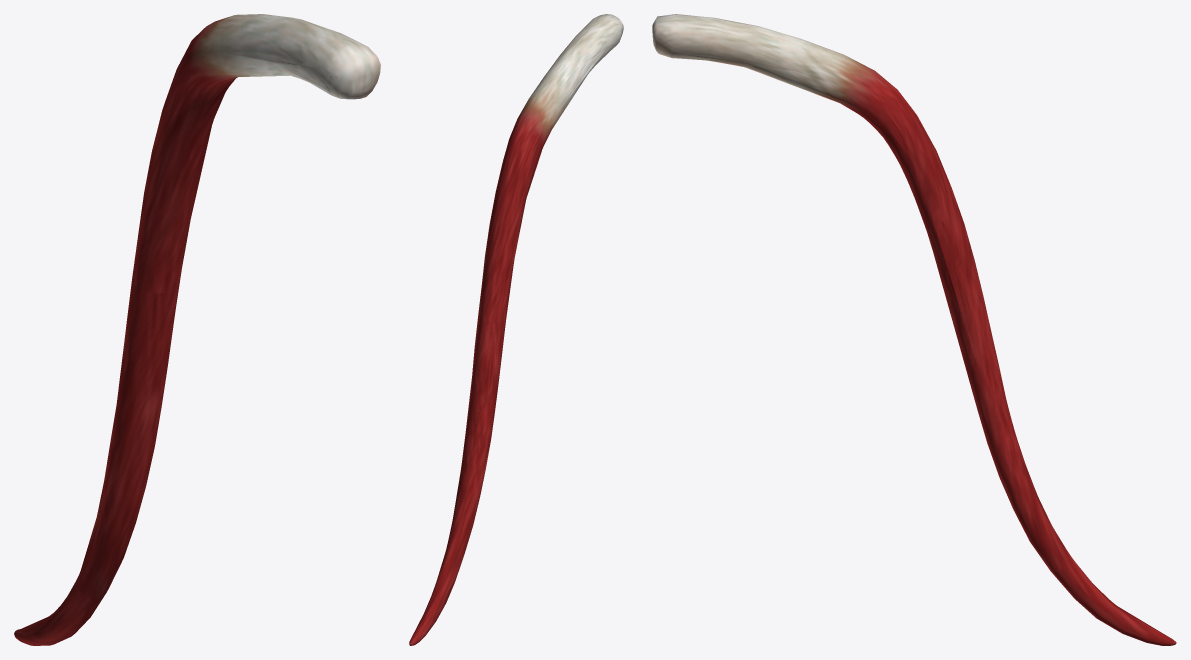
Rendered from Sacrococcygeus Dorsalis Longus.fbx.
3 views of the same model, side by side, from view 1: azimuth 30°, elevation 25°; view 2: azimuth 150°, elevation 25°; view 3: azimuth 270°, elevation 25° (orthographic). The views are drawn at different scales.
Visible parts, largest first — view 1: Sacrococcygeus Dorsalis Longus, Sacrococcygeus Dorsalis Longus low, Sacrococcygeus Dorsalis Longus high; view 2: Sacrococcygeus Dorsalis Longus, Sacrococcygeus Dorsalis Longus low, Sacrococcygeus Dorsalis Longus high; view 3: Sacrococcygeus Dorsalis Longus, Sacrococcygeus Dorsalis Longus low, Sacrococcygeus Dorsalis Longus high.
Part boxes in pixels (x1,y1,x2,y2): Sacrococcygeus Dorsalis Longus: (14, 14, 380, 645); Sacrococcygeus Dorsalis Longus low: (14, 14, 371, 641); Sacrococcygeus Dorsalis Longus high: (16, 18, 366, 641); Sacrococcygeus Dorsalis Longus: (409, 14, 623, 645); Sacrococcygeus Dorsalis Longus low: (410, 23, 623, 645); Sacrococcygeus Dorsalis Longus high: (411, 21, 621, 645); Sacrococcygeus Dorsalis Longus: (652, 14, 1176, 645); Sacrococcygeus Dorsalis Longus low: (659, 22, 1174, 645); Sacrococcygeus Dorsalis Longus high: (662, 22, 1175, 644).
Bounding box in the file's own units: 1.4 × 20.9 × 15.79.
